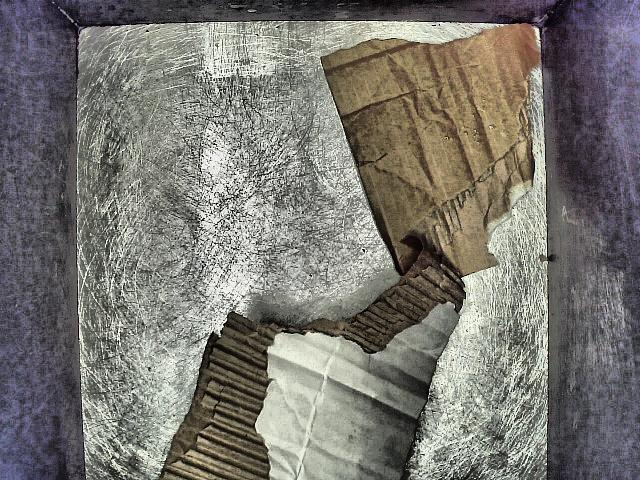Paper: (156, 239, 488, 480), (307, 20, 544, 286)
